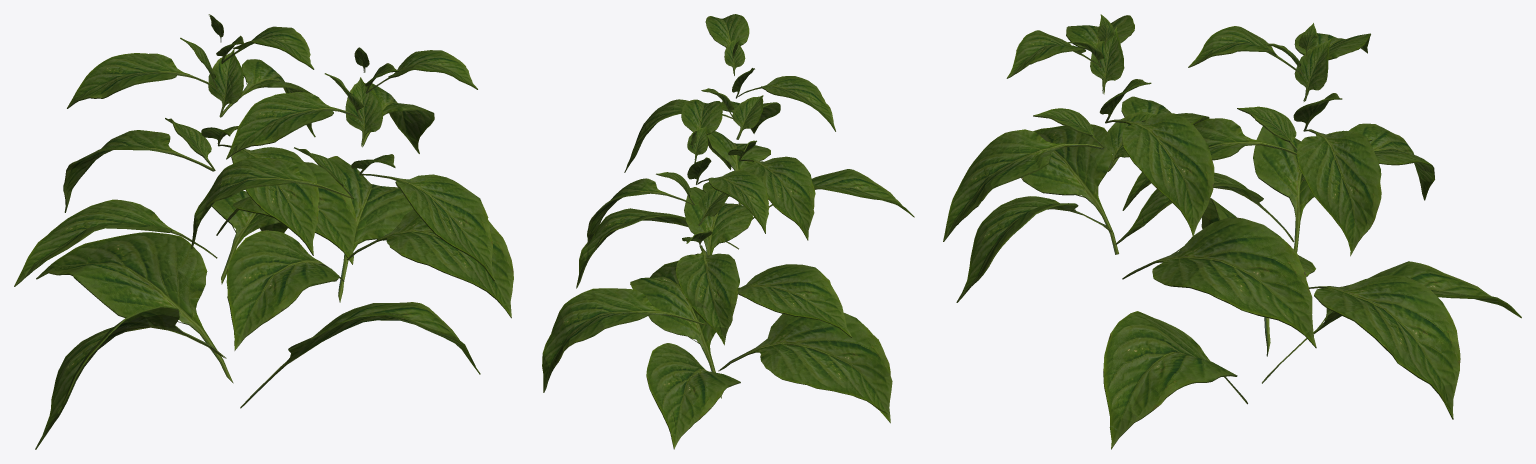
File: VG07_1_leaves.dae
3 views of the same model, side by side, from view 1: azimuth 30°, elevation 25°; view 2: azimuth 150°, elevation 25°; view 3: azimuth 270°, elevation 25° (orthographic). The views are drawn at different scales.
Parts seen in each view (by area): view 1: VG07_003; view 2: VG07_003; view 3: VG07_003.
Boxes of the visible parts, x1,y1,x2,y2 form: VG07_003: (14, 14, 513, 449); VG07_003: (542, 14, 914, 449); VG07_003: (943, 14, 1521, 449).
Size of the model in its own units: 13.41 by 16.92 by 13.35.
